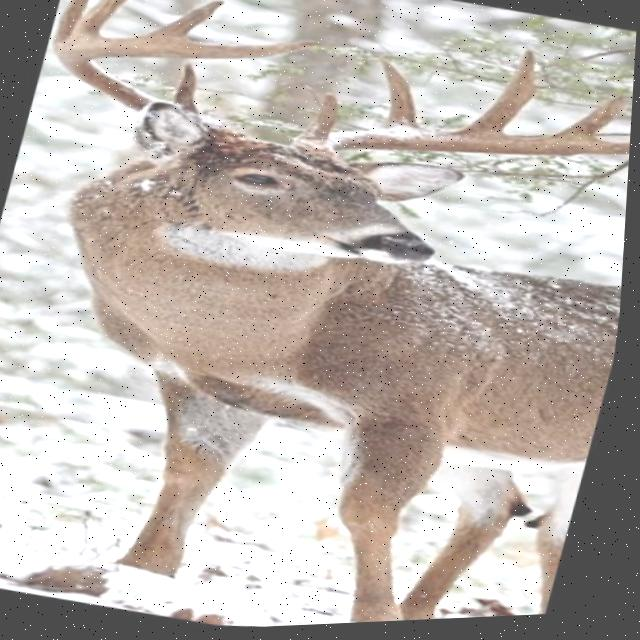L-G1: (174, 64, 200, 114)
L-G3: (71, 0, 127, 40)
L-G4: (147, 1, 225, 42)
R-G1: (302, 94, 341, 137)
R-G2: (378, 60, 423, 132)
R-G3: (462, 54, 537, 138)
R-G4: (555, 99, 628, 145)
